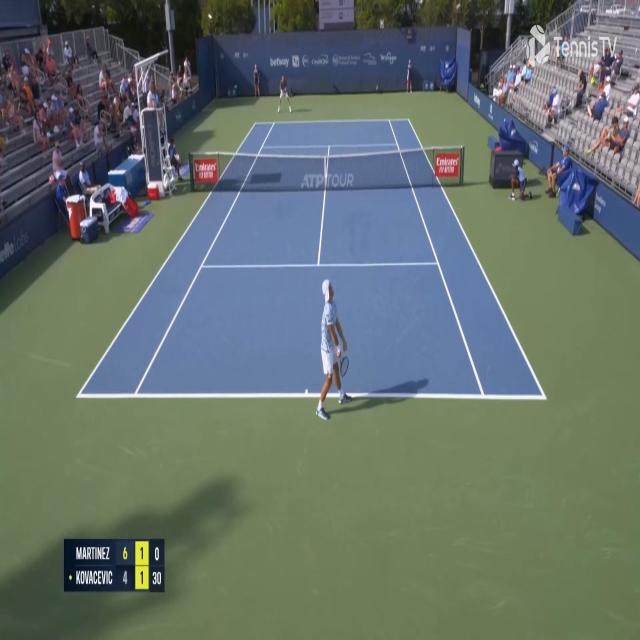tennis-player: (314, 278, 352, 423), (276, 75, 293, 115)
